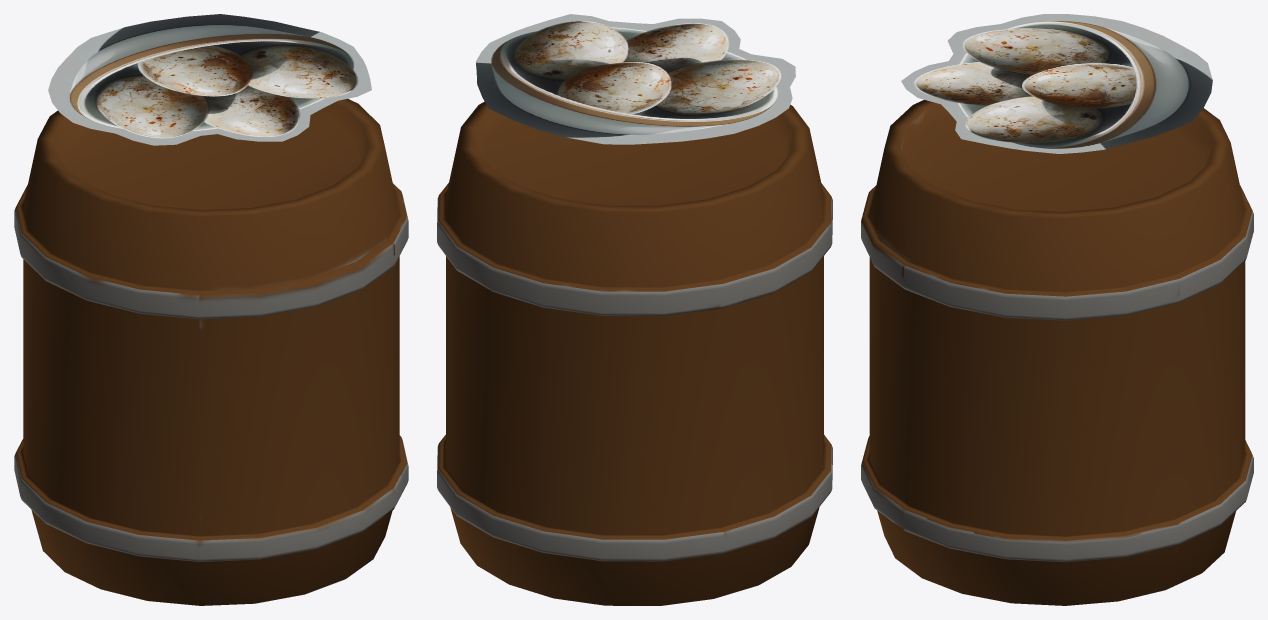
Rendered from Ingredientes_12_HuevosdeBasilisco.fbx.
The picture shows the model from 3 angles, left to right: view 1: azimuth 30°, elevation 25°; view 2: azimuth 150°, elevation 25°; view 3: azimuth 270°, elevation 25°; orthographic projection.
Parts seen in each view (by area): view 1: Barril_mesh, MK_Ingredientes_12_HuevosdeBasilisco; view 2: Barril_mesh, MK_Ingredientes_12_HuevosdeBasilisco; view 3: Barril_mesh, MK_Ingredientes_12_HuevosdeBasilisco.
Boxes of the visible parts, left/top/right/bottom form: Barril_mesh: left=14, top=99, right=408, bottom=605; MK_Ingredientes_12_HuevosdeBasilisco: left=48, top=14, right=371, bottom=145; Barril_mesh: left=437, top=101, right=832, bottom=605; MK_Ingredientes_12_HuevosdeBasilisco: left=475, top=14, right=795, bottom=144; Barril_mesh: left=861, top=100, right=1253, bottom=605; MK_Ingredientes_12_HuevosdeBasilisco: left=901, top=14, right=1212, bottom=153.
Size of the model in its own units: 1.84 by 2.31 by 1.84.
Materials: 2 (2 with a texture image).
